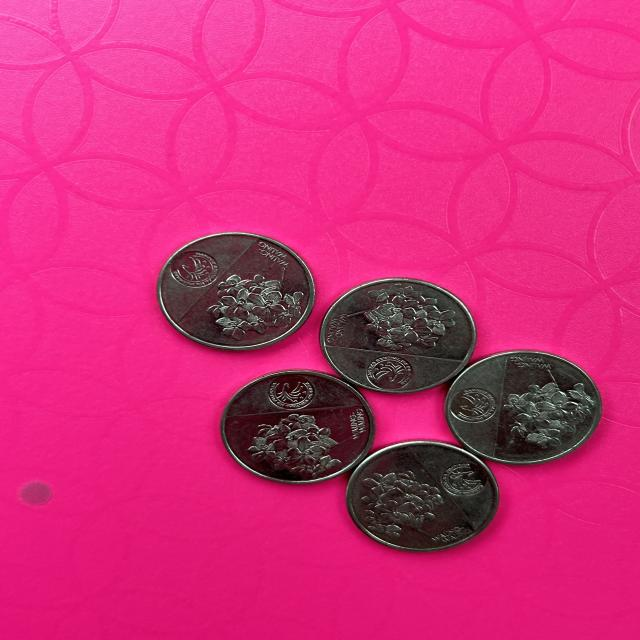1_New_Back: (508, 373, 598, 448), (210, 278, 316, 334), (355, 472, 447, 536), (358, 283, 445, 348), (244, 420, 334, 461)
